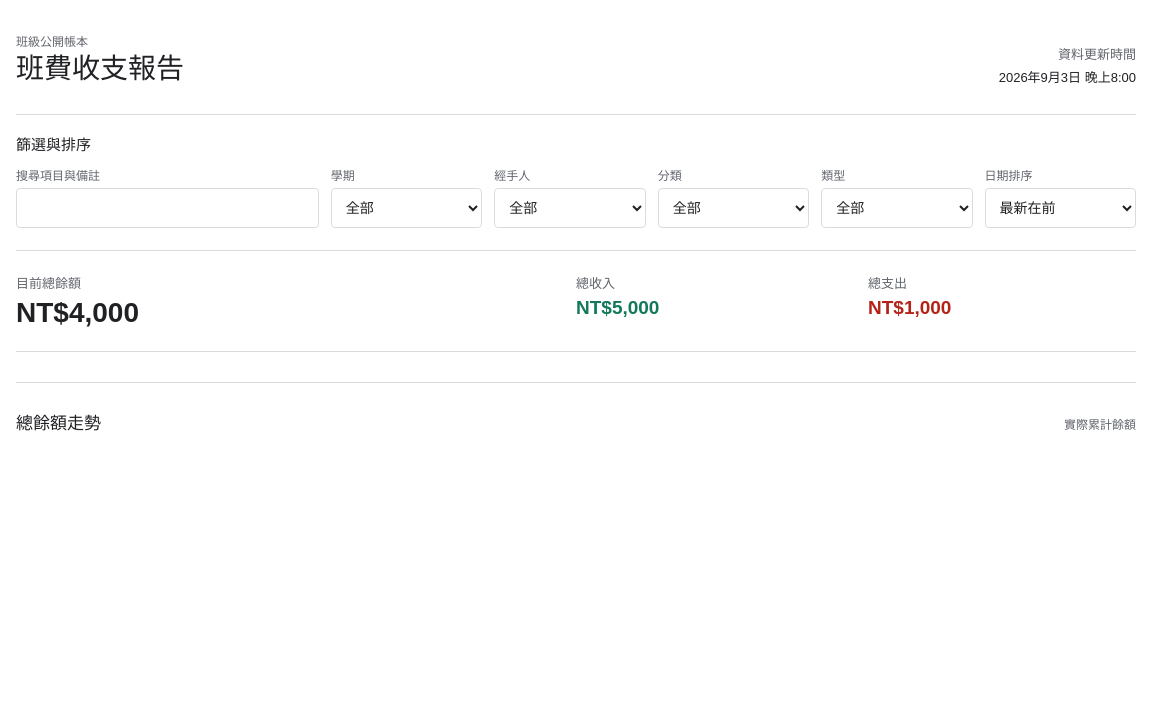
ReportApp › keeps the semester opening when secondary filters match no transactions
Select "第一學期" in the dropdown labelled "學期" at x=406, y=208, box top-left (331, 188), bottom-right (482, 228)
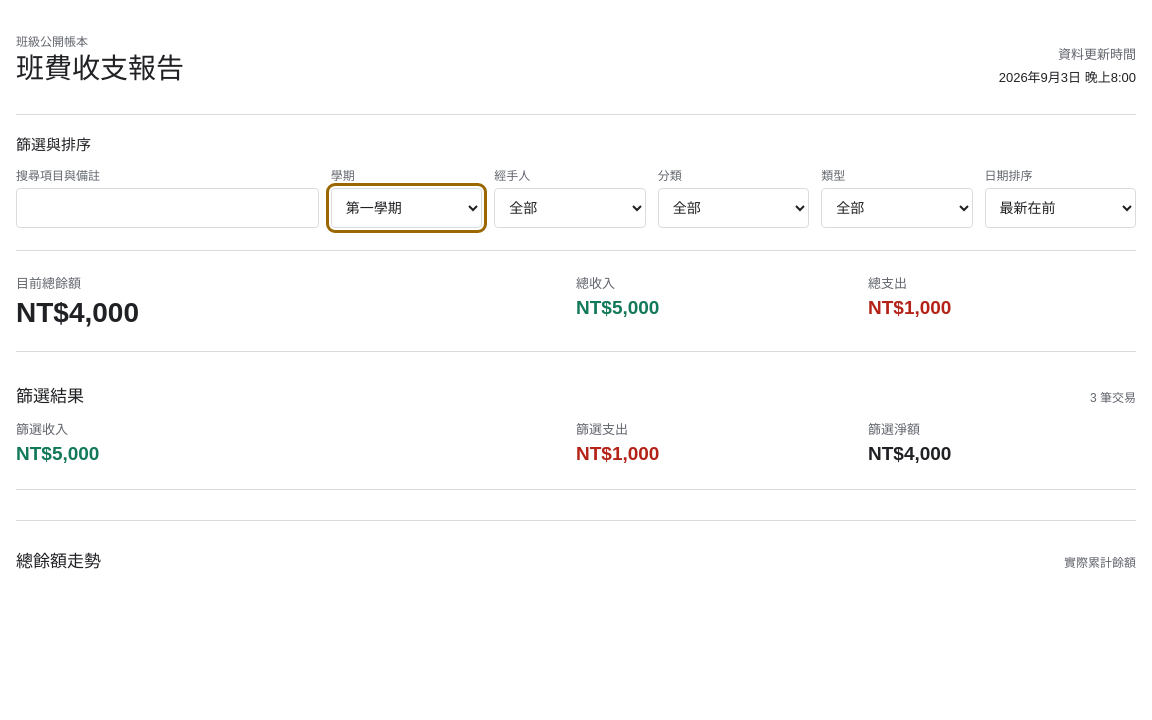
Select "清潔用品" in the dropdown labelled "分類" at x=733, y=208, box top-left (658, 188), bottom-right (809, 228)
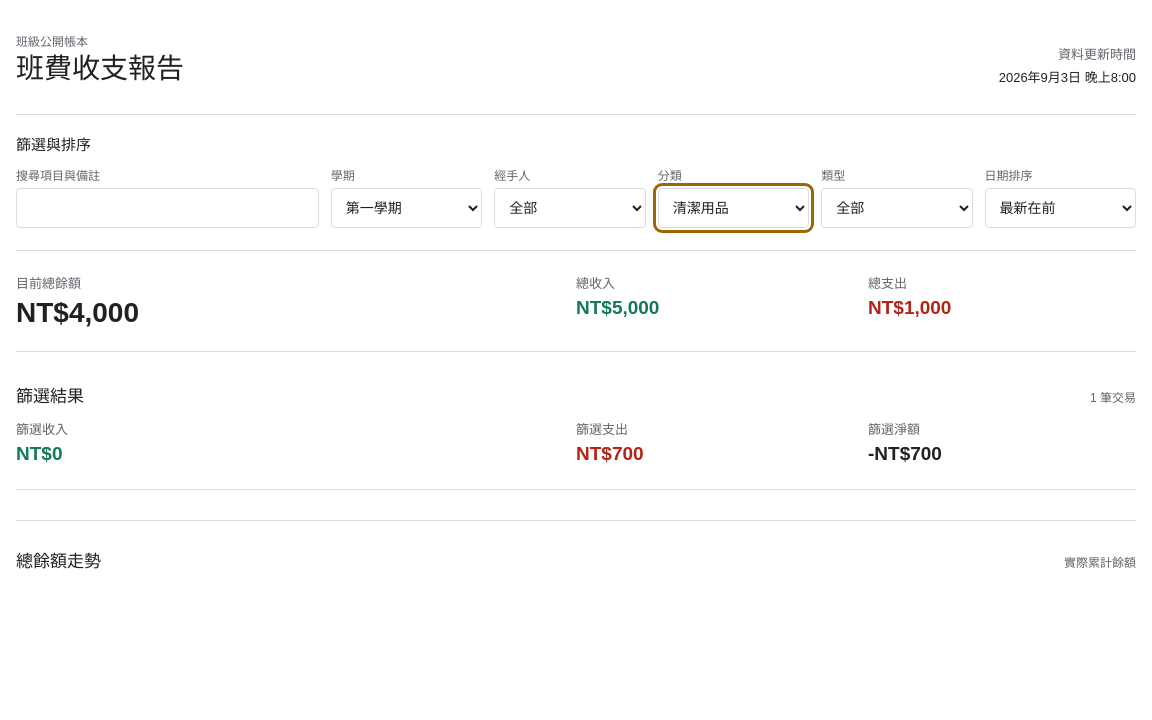
Select "收入" in the dropdown labelled "類型" at x=897, y=208, box top-left (821, 188), bottom-right (972, 228)
(page scrolled)
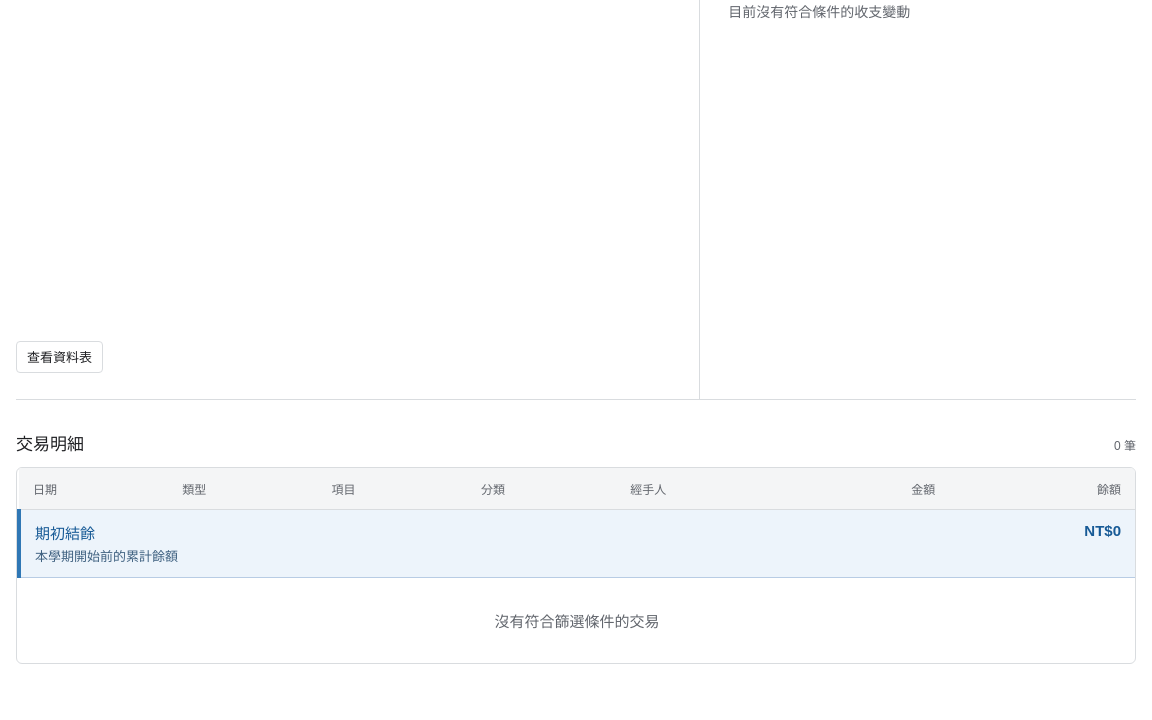
Check: the row named "第一學期 期初結餘 NT$0" is shown, box top-left (19, 509), bottom-right (1135, 577)
Check: the text "沒有符合篩選條件的交易" is shown, box top-left (19, 577), bottom-right (1135, 663)
Check: the number of rows is 3, box top-left (19, 468), bottom-right (1135, 509); top-left (19, 509), bottom-right (1135, 577); top-left (19, 577), bottom-right (1135, 663)
